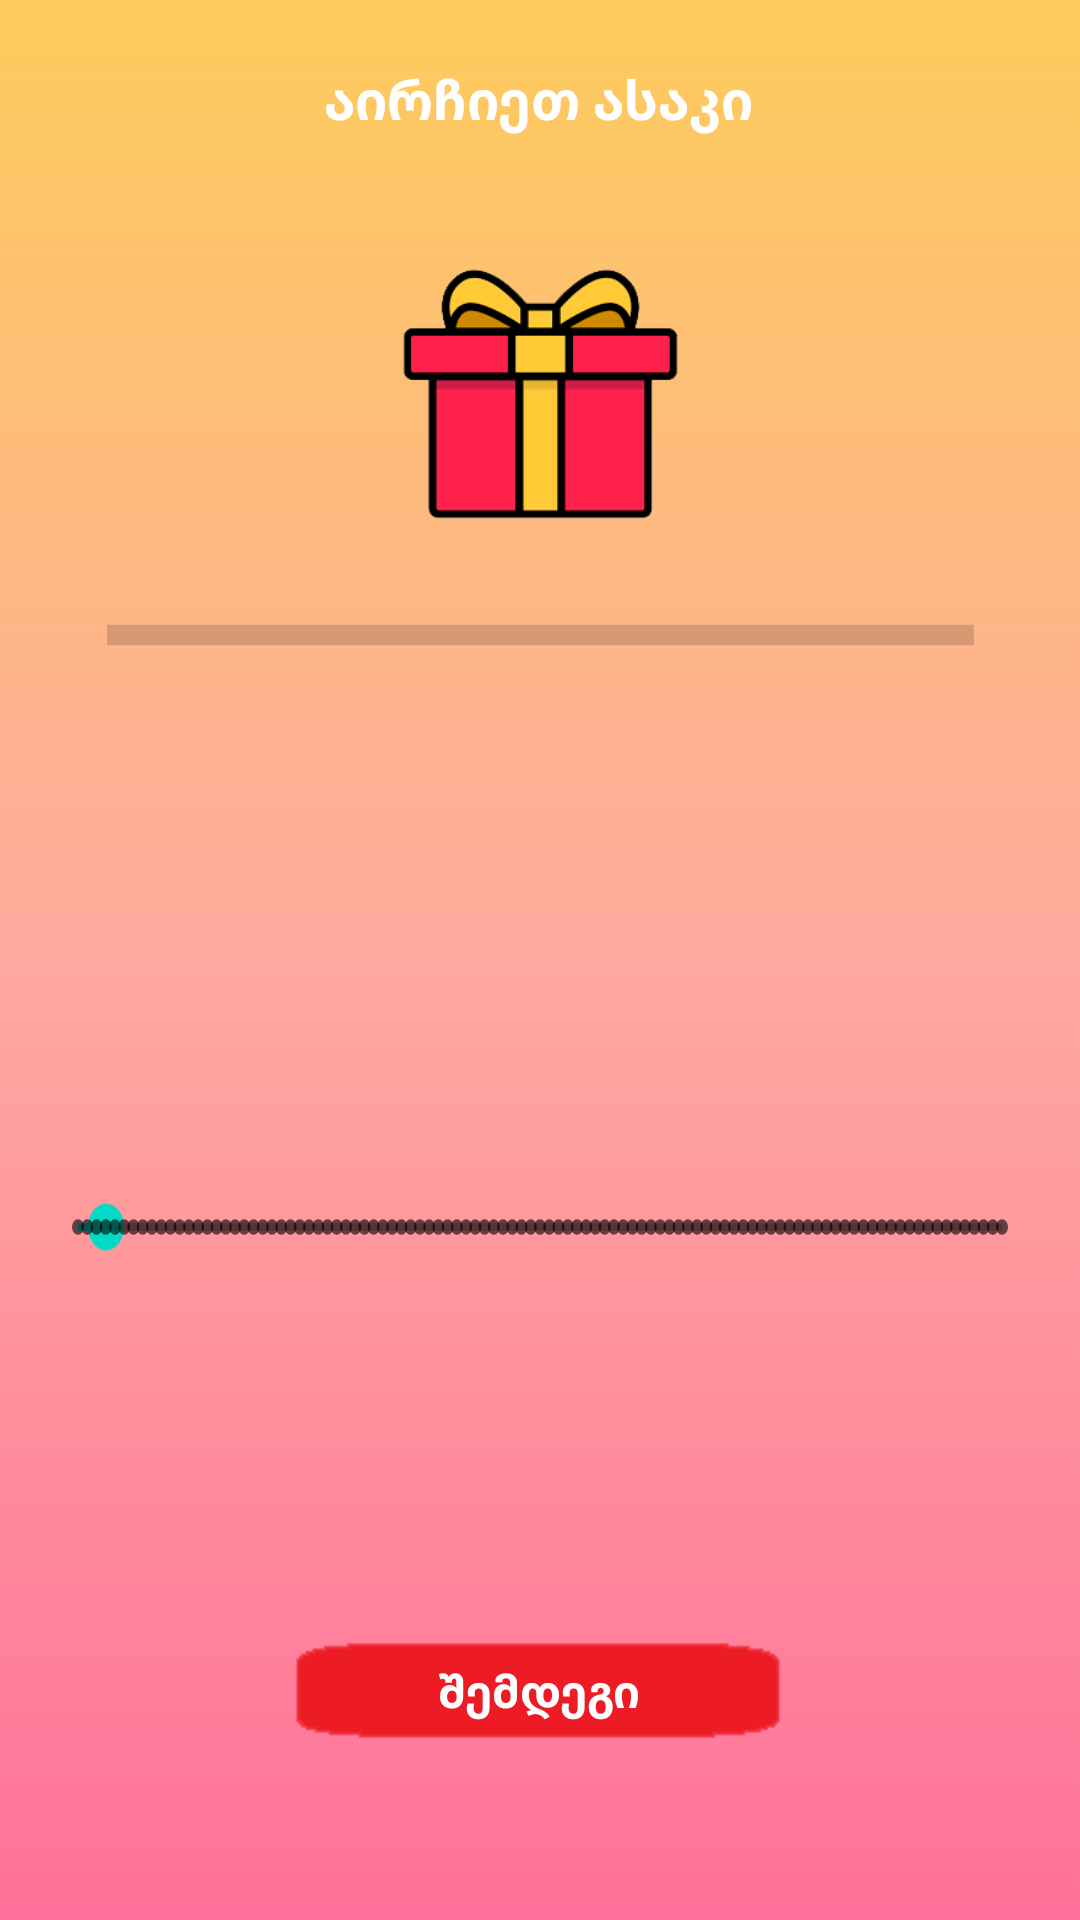

Icons on this 1080w x 1920h Android screen, each with its box as bbox=(x1, y1, x2, y2):
gift: bbox=(403, 269, 678, 519)
